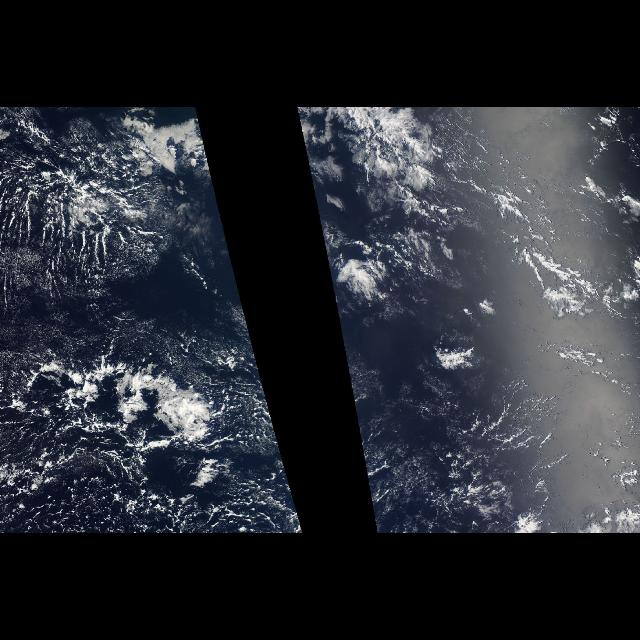Gravel: (10, 314, 230, 511), (12, 150, 156, 268)
